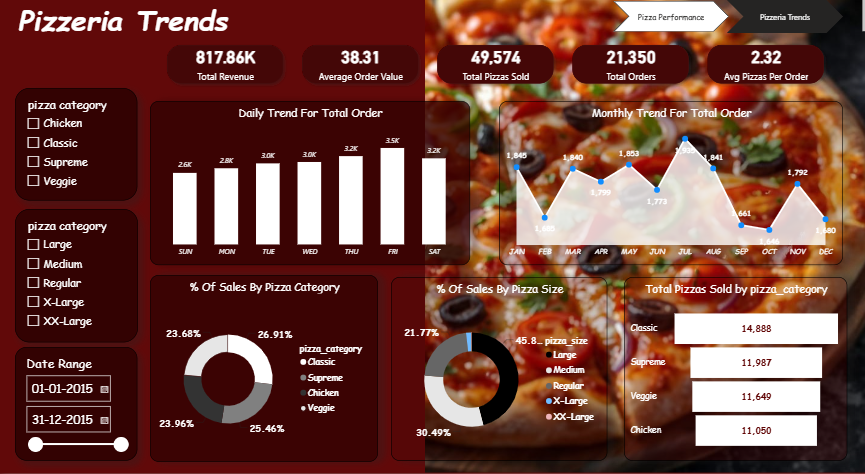

What the dashboard file says about the page in this screenshot:
{"tool":"powerbi","page":{"name":"Pizzeria Trends","canvas":[1500,820],"ordinal":0},"visuals":[{"type":"image","box":[733.3,0,766.1,819.6],"z":0},{"type":"cardVisual","fields":{"Data":["pizza_sales.Total Revenue","pizza_sales.Average Order Value","pizza_sales.Total Pizzas Sold","pizza_sales.Total Orders","pizza_sales.Avg Pizzas Per Order"]},"box":[259.3,53.7,1194.4,125.9],"z":1000},{"type":"textbox","box":[25.9,0,1474.1,70.4],"z":2000},{"type":"clusteredColumnChart","title":"Daily Trend For Total Order","fields":{"Category":["pizza_sales.Order Day"],"Y":["pizza_sales.Total Orders"]},"box":[259.3,179.6,551.7,283.3],"z":3000},{"type":"areaChart","title":"Monthly Trend For Total Order","fields":{"Category":["pizza_sales.Order Month"],"Y":["pizza_sales.Total Orders"]},"box":[861.1,179.6,593.3,283.3],"z":4000},{"type":"donutChart","title":"% Of Sales By Pizza Category","fields":{"Category":["pizza_sales.pizza_category"],"Y":["pizza_sales.Total Revenue"]},"box":[259.3,479.6,393.3,321.7],"z":5000},{"type":"donutChart","title":"% Of Sales By Pizza Size","fields":{"Y":["pizza_sales.Total Revenue"],"Category":["pizza_sales.pizza_size"]},"box":[674.1,483.3,373.3,316.7],"z":6000},{"type":"funnel","fields":{"Category":["pizza_sales.pizza_category"],"Y":["pizza_sales.Total Pizzas Sold"]},"box":[1075.9,483.3,385,316.7],"z":7000},{"type":"slicer","fields":{"Values":["pizza_sales.pizza_category"]},"box":[25.9,157.4,211.1,194.4],"z":8000},{"type":"slicer","fields":{"Values":["pizza_sales.pizza_size"]},"box":[25.9,364.8,211.7,230],"z":9000},{"type":"slicer","fields":{"Values":["pizza_sales.order_date"]},"box":[25.9,603.7,211.1,196.3],"z":10000},{"type":"pageNavigator","box":[1253.7,5.6,200,57.4],"z":11000},{"type":"pageNavigator","box":[1057.4,7.4,200,53.7],"z":12000}]}

Visuals, with their boxes in screenshot pixels (x1, y1, x2, y2), scaled from the page's 1500x820 canvas onto the 865x474 screenshot:
image: {"x1": 423, "y1": 0, "x2": 864, "y2": 473}
cardVisual - pizza_sales.Total Revenue x pizza_sales.Average Order Value: {"x1": 150, "y1": 31, "x2": 838, "y2": 104}
textbox: {"x1": 15, "y1": 0, "x2": 864, "y2": 41}
"Daily Trend For Total Order" clusteredColumnChart: {"x1": 150, "y1": 104, "x2": 468, "y2": 268}
"Monthly Trend For Total Order" areaChart: {"x1": 497, "y1": 104, "x2": 839, "y2": 268}
"% Of Sales By Pizza Category" donutChart: {"x1": 150, "y1": 277, "x2": 376, "y2": 463}
"% Of Sales By Pizza Size" donutChart: {"x1": 389, "y1": 279, "x2": 604, "y2": 462}
funnel - pizza_sales.pizza_category x pizza_sales.Total Pizzas Sold: {"x1": 620, "y1": 279, "x2": 842, "y2": 462}
slicer - pizza_sales.pizza_category: {"x1": 15, "y1": 91, "x2": 137, "y2": 203}
slicer - pizza_sales.pizza_size: {"x1": 15, "y1": 211, "x2": 137, "y2": 344}
slicer - pizza_sales.order_date: {"x1": 15, "y1": 349, "x2": 137, "y2": 462}
pageNavigator: {"x1": 723, "y1": 3, "x2": 838, "y2": 36}
pageNavigator: {"x1": 610, "y1": 4, "x2": 725, "y2": 35}
